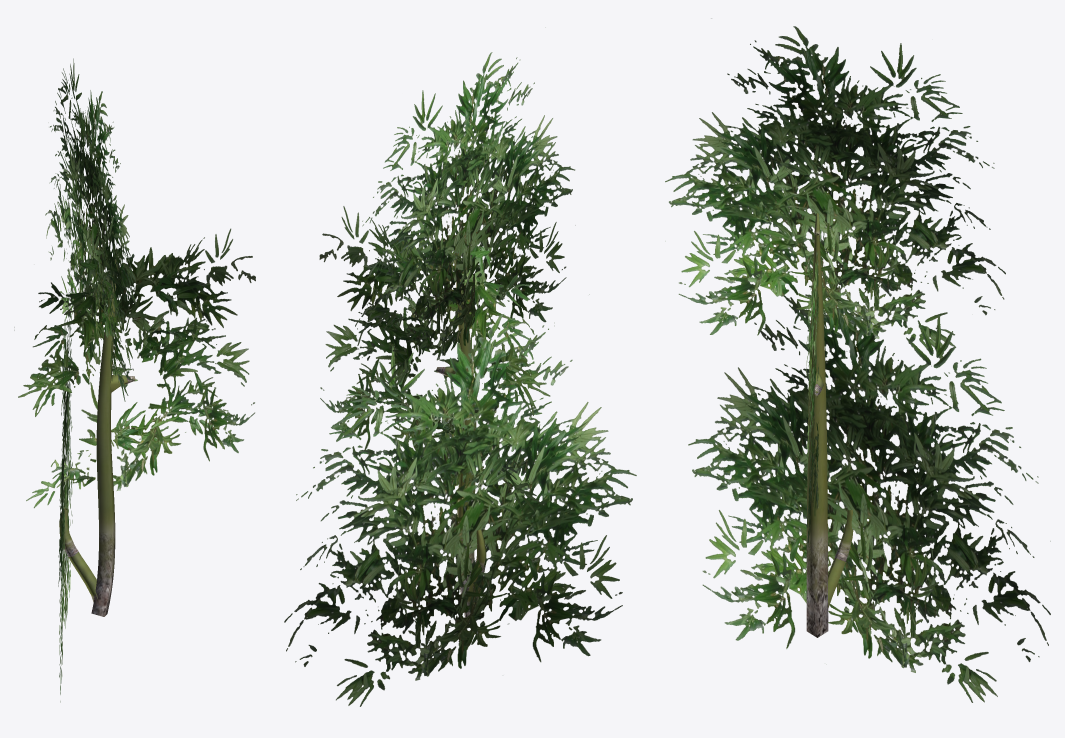
The model's file is bamboo1.glb.
3 views of the same model, side by side, from view 1: azimuth 30°, elevation 25°; view 2: azimuth 150°, elevation 25°; view 3: azimuth 270°, elevation 25° (orthographic). The views are drawn at different scales.
Visible parts, largest first — view 1: Untitled; view 2: Untitled; view 3: Untitled.
Boxes of the visible parts, left/top/right/bottom form: Untitled: left=14, top=58, right=255, bottom=702; Untitled: left=284, top=52, right=636, bottom=706; Untitled: left=665, top=18, right=1050, bottom=702.
Size of the model in its own units: 4.52 by 9.98 by 5.36.
3 materials, 3 textured.
